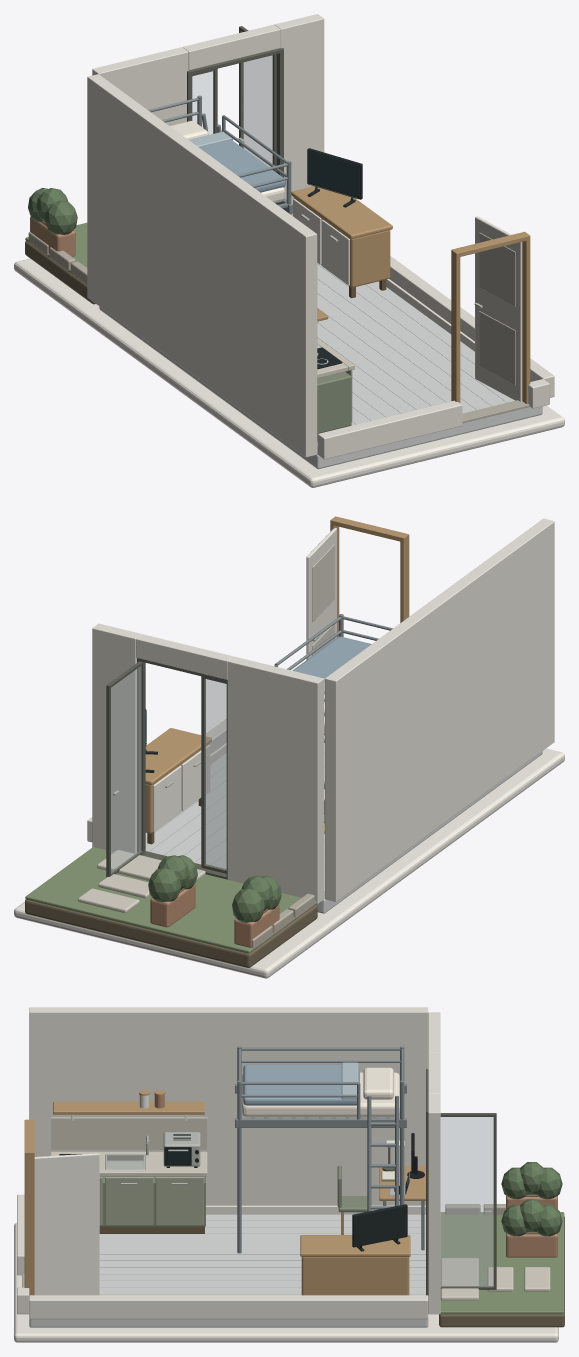
The model's file is room-06.glb.
The picture shows the model from 3 angles, top to bottom: view 1: azimuth 30°, elevation 25°; view 2: azimuth 150°, elevation 25°; view 3: azimuth 270°, elevation 25°; orthographic projection. The views are drawn at different scales.
Parts seen in each view (by area): view 1: Architecture, Entrance, TVCabinet, GardenDoor, Garden, LoftBed, Kitchen, Television; view 2: Architecture, Garden, GardenDoor, TVCabinet, Entrance, LoftBed; view 3: Architecture, Garden, Kitchen, LoftBed, Entrance, GardenDoor, TVCabinet, Television, Ladder, Desk, Oven, DeskChair.
Boxes of the visible parts, x1=… form: Architecture: x1=14, y1=14, x2=564, y2=487; Entrance: x1=451, y1=216, x2=530, y2=423; TVCabinet: x1=291, y1=186, x2=392, y2=298; GardenDoor: x1=187, y1=26, x2=283, y2=187; Garden: x1=25, y1=188, x2=95, y2=304; LoftBed: x1=148, y1=95, x2=293, y2=214; Kitchen: x1=317, y1=308, x2=354, y2=441; Television: x1=307, y1=148, x2=362, y2=207; Architecture: x1=14, y1=518, x2=564, y2=978; Garden: x1=25, y1=847, x2=317, y2=967; GardenDoor: x1=106, y1=658, x2=227, y2=879; TVCabinet: x1=145, y1=728, x2=211, y2=844; Entrance: x1=306, y1=516, x2=409, y2=659; LoftBed: x1=274, y1=614, x2=392, y2=742; Architecture: x1=14, y1=1007, x2=558, y2=1342; Garden: x1=439, y1=1162, x2=564, y2=1327; Kitchen: x1=51, y1=1090, x2=207, y2=1233; LoftBed: x1=235, y1=1046, x2=406, y2=1253; Entrance: x1=22, y1=1119, x2=99, y2=1295; GardenDoor: x1=426, y1=1069, x2=496, y2=1295; TVCabinet: x1=300, y1=1235, x2=410, y2=1295; Television: x1=352, y1=1204, x2=407, y2=1251; Ladder: x1=367, y1=1095, x2=398, y2=1211; Desk: x1=379, y1=1140, x2=425, y2=1250; Oven: x1=163, y1=1132, x2=200, y2=1167; DeskChair: x1=337, y1=1165, x2=367, y2=1234.
Bounding box in the file's own units: 3.5 × 3.23 × 7.18.
